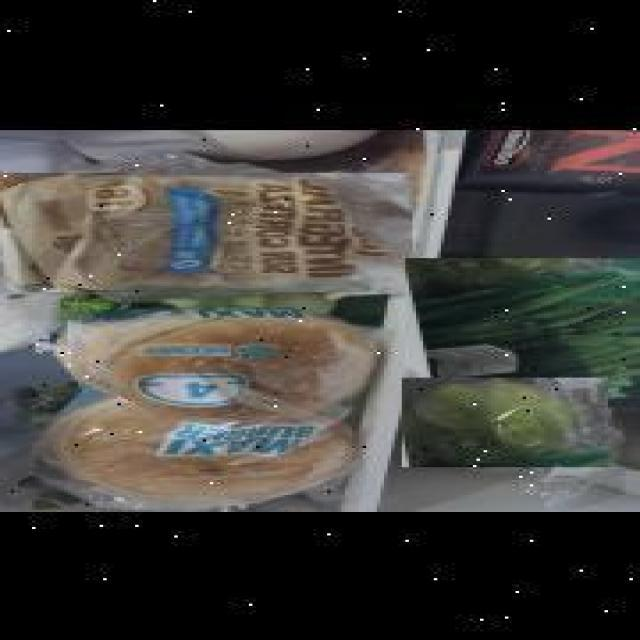bread: (0, 170, 412, 290)
green_beans: (405, 254, 640, 404)
milk: (60, 128, 384, 164)
pineapple: (0, 397, 75, 512)
salad: (402, 376, 608, 466)
